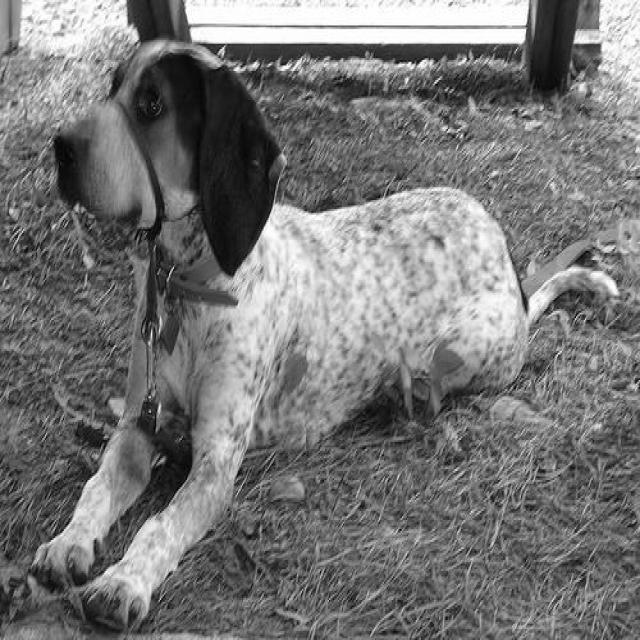laying down: (30, 38, 624, 636)
